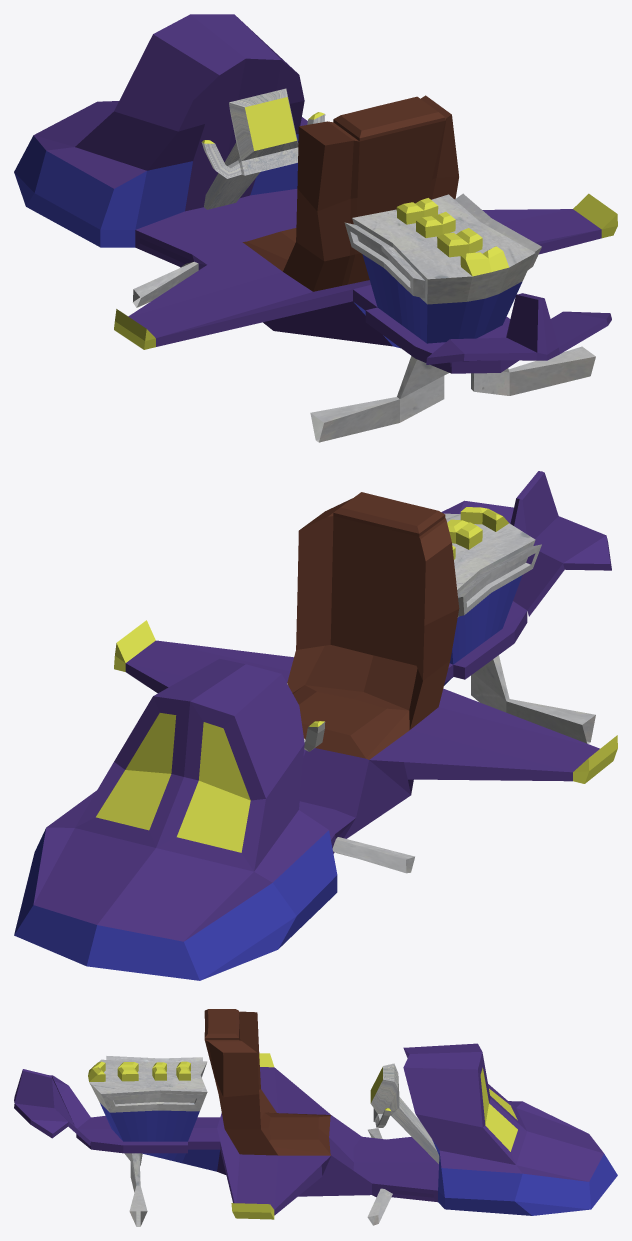
Rendered from kart alexandre.fbx.
The picture shows the model from 3 angles, top to bottom: view 1: azimuth 30°, elevation 25°; view 2: azimuth 150°, elevation 25°; view 3: azimuth 270°, elevation 25°; orthographic projection. The views are drawn at different scales.
Visible parts, largest first — view 1: Cube; view 2: Cube; view 3: Cube.
Part boxes in pixels (x1,y1,x2,y2): Cube: (14, 14, 617, 442); Cube: (14, 471, 617, 980); Cube: (14, 1009, 617, 1226).
Bounding box in the file's own units: 549 × 274 × 926.
